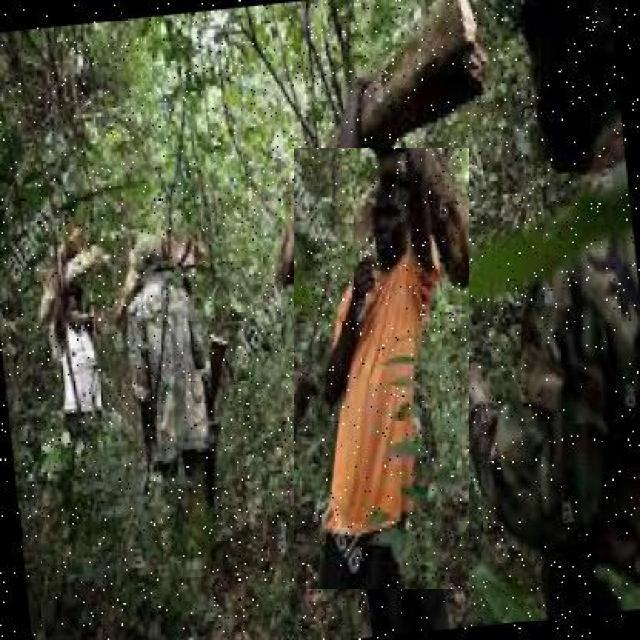poacher: (294, 148, 469, 589), (101, 208, 246, 512), (29, 223, 112, 488)
